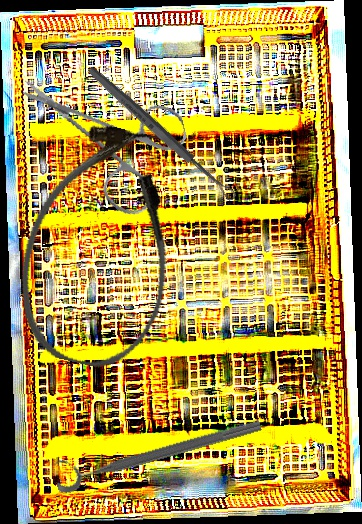Cannula: (2, 113, 200, 379)
Fixation Ring: (50, 402, 264, 496)
Iris Scissors: (20, 45, 202, 234)
Surgical Spoon: (84, 63, 239, 204)
